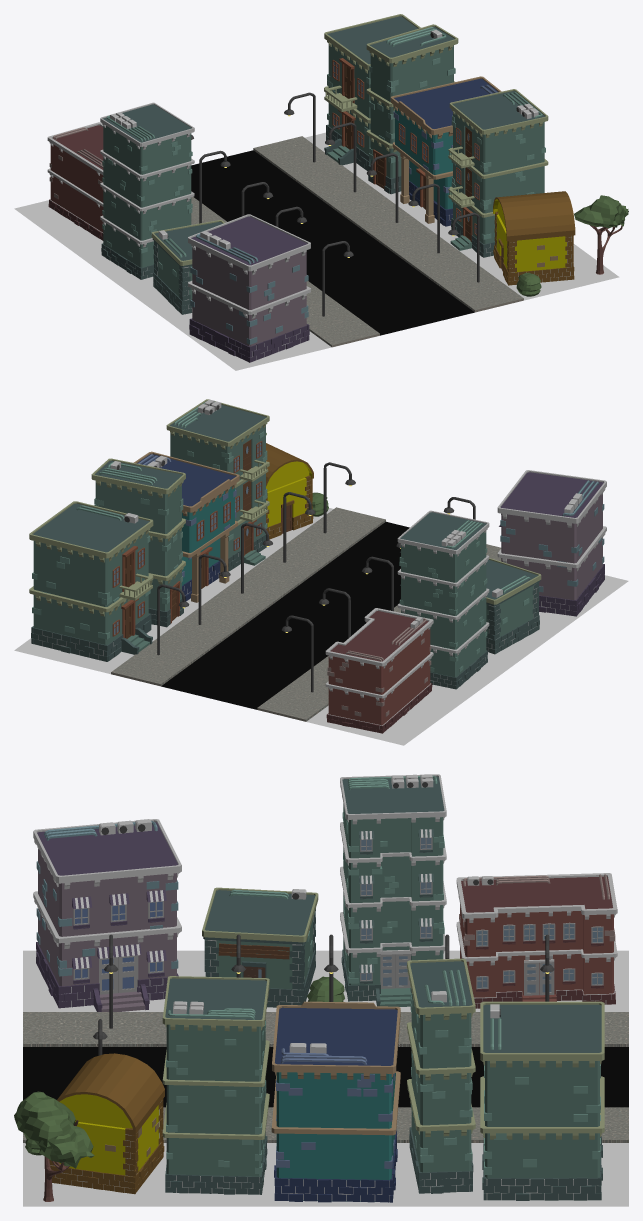
Rendered from city.gltf.
The picture shows the model from 3 angles, top to bottom: view 1: azimuth 30°, elevation 25°; view 2: azimuth 150°, elevation 25°; view 3: azimuth 270°, elevation 25°; orthographic projection. The views are drawn at different scales.
Visible parts, largest first — view 1: Street, 2StoryPurpleApartment, 4StoryApartment, 3StoryApartment, 2StoryBlueApartment, 3StoryApartmentSlim, YellowHouse, 2StoryApartment, 2StoryRedBuilding, Store, Tree1, Bush1; view 2: Street, 2StoryApartment, 4StoryApartment, 2StoryPurpleApartment, 2StoryRedBuilding, 3StoryApartment, 3StoryApartmentSlim, 2StoryBlueApartment, Store, YellowHouse; view 3: Street, 2StoryPurpleApartment, 2StoryBlueApartment, 2StoryApartment, 3StoryApartment, 4StoryApartment, 2StoryRedBuilding, 3StoryApartmentSlim, YellowHouse, Store, Tree1, Bush2.
Part boxes in pixels (<box>): Street: <box>14,132,619,370</box>; 2StoryPurpleApartment: <box>188,214,310,362</box>; 4StoryApartment: <box>100,102,194,279</box>; 3StoryApartment: <box>448,89,548,257</box>; 2StoryBlueApartment: <box>390,76,501,226</box>; 3StoryApartmentSlim: <box>366,24,458,194</box>; YellowHouse: <box>493,191,575,285</box>; 2StoryApartment: <box>324,14,420,171</box>; 2StoryRedBuilding: <box>47,122,103,240</box>; Store: <box>151,220,224,314</box>; Tree1: <box>574,195,628,274</box>; Bush1: <box>516,272,541,296</box>; Street: <box>14,507,628,745</box>; 2StoryApartment: <box>29,501,153,661</box>; 4StoryApartment: <box>397,510,489,689</box>; 2StoryPurpleApartment: <box>497,470,606,616</box>; 2StoryRedBuilding: <box>325,608,433,733</box>; 3StoryApartment: <box>166,399,269,571</box>; 3StoryApartmentSlim: <box>91,458,185,627</box>; 2StoryBlueApartment: <box>133,451,239,602</box>; Store: <box>486,558,541,654</box>; YellowHouse: <box>266,443,313,539</box>; Street: <box>23,950,628,1206</box>; 2StoryPurpleApartment: <box>33,819,181,1011</box>; 2StoryBlueApartment: <box>271,1001,400,1202</box>; 2StoryApartment: <box>480,1001,604,1200</box>; 3StoryApartment: <box>162,976,269,1194</box>; 4StoryApartment: <box>340,774,446,1006</box>; 2StoryRedBuilding: <box>456,873,617,1008</box>; 3StoryApartmentSlim: <box>407,958,475,1193</box>; YellowHouse: <box>49,1053,164,1194</box>; Store: <box>202,887,318,1007</box>; Tree1: <box>14,1091,94,1201</box>; Bush2: <box>307,976,344,1001</box>.
Size of the model in its own units: 17.01 by 5.69 by 16.24.
